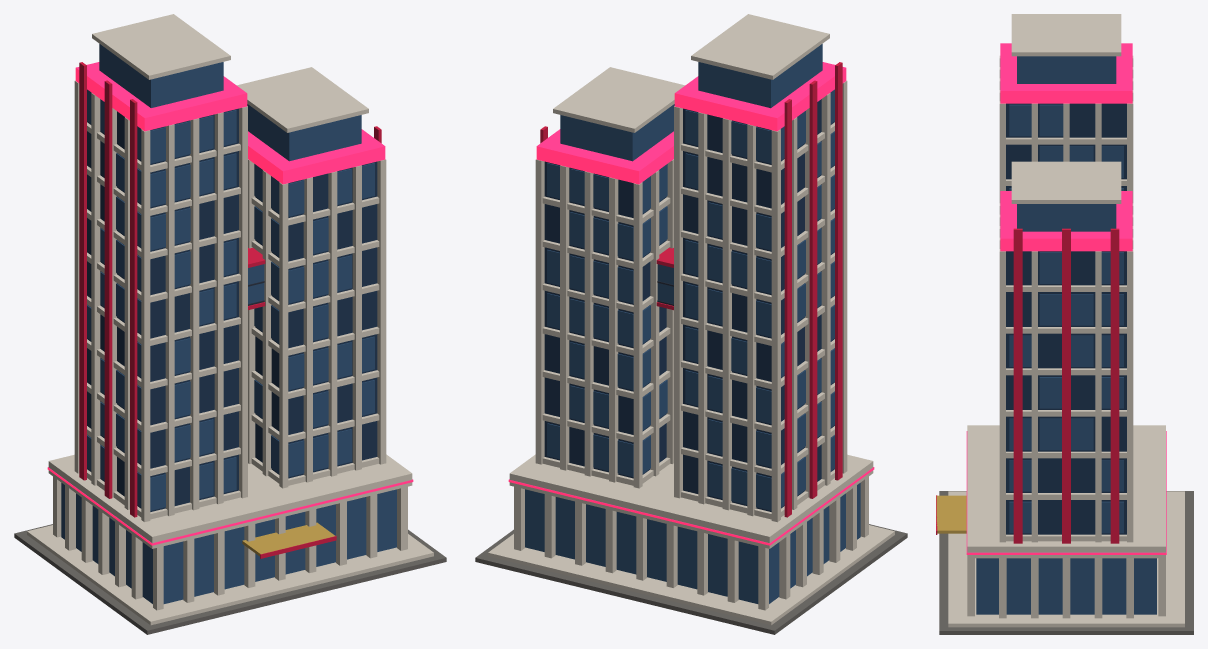
Rendered from hq-georgia.glb.
The picture shows the model from 3 angles, left to right: view 1: azimuth 30°, elevation 25°; view 2: azimuth 150°, elevation 25°; view 3: azimuth 270°, elevation 25°; orthographic projection. The views are drawn at different scales.
Parts seen in each view (by area): view 1: hq-georgia; view 2: hq-georgia; view 3: hq-georgia.
Part boxes in pixels (bbox=[...]): hq-georgia: bbox=[14, 14, 446, 634]; hq-georgia: bbox=[475, 14, 907, 634]; hq-georgia: bbox=[936, 14, 1193, 634].
Bounding box in the file's own units: 26 × 43.3 × 20.25.
